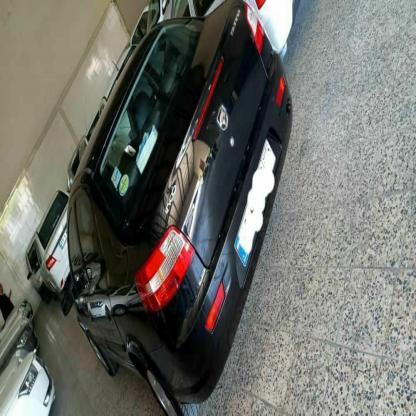Car: (67, 51, 293, 414), (38, 199, 74, 317), (0, 357, 51, 416), (0, 332, 42, 382), (25, 232, 42, 319)
